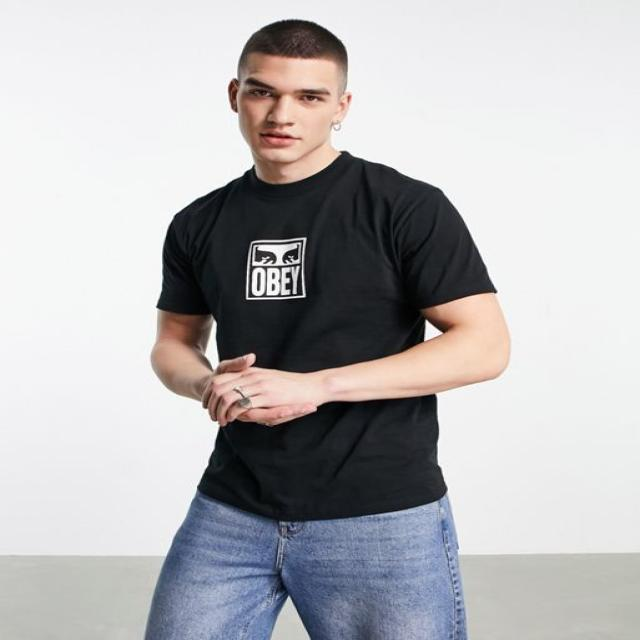tshirt: (152, 150, 499, 521)
